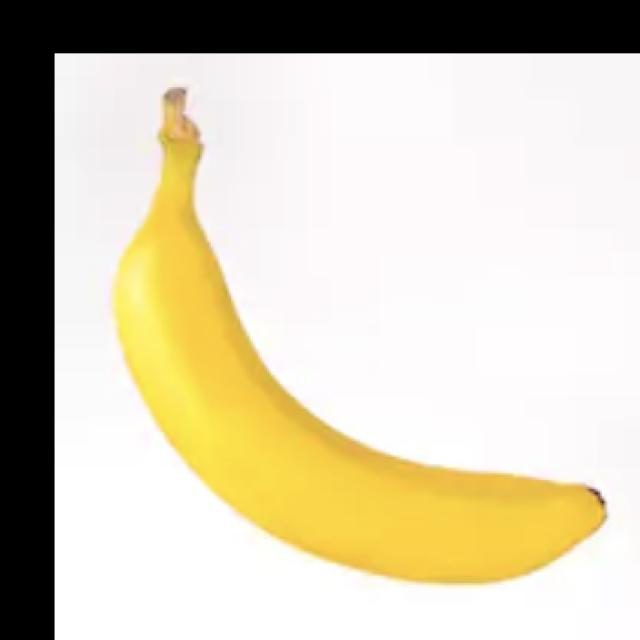Ripe: (106, 79, 622, 594)
